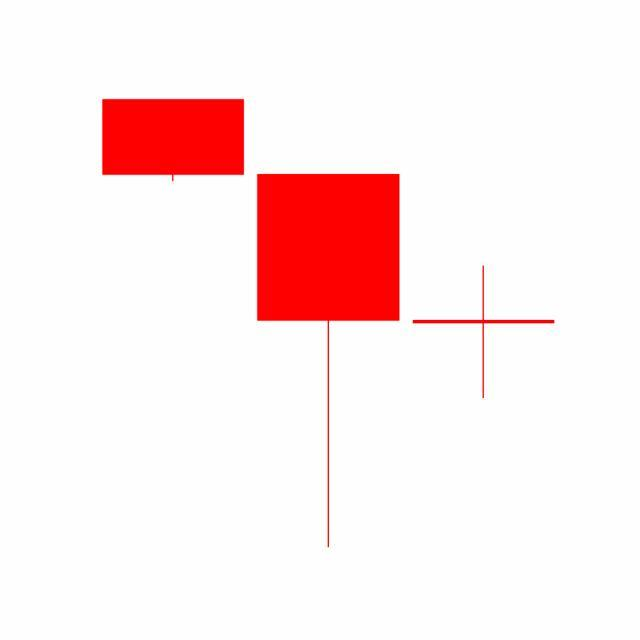Spinning Top: (406, 264, 562, 400)
